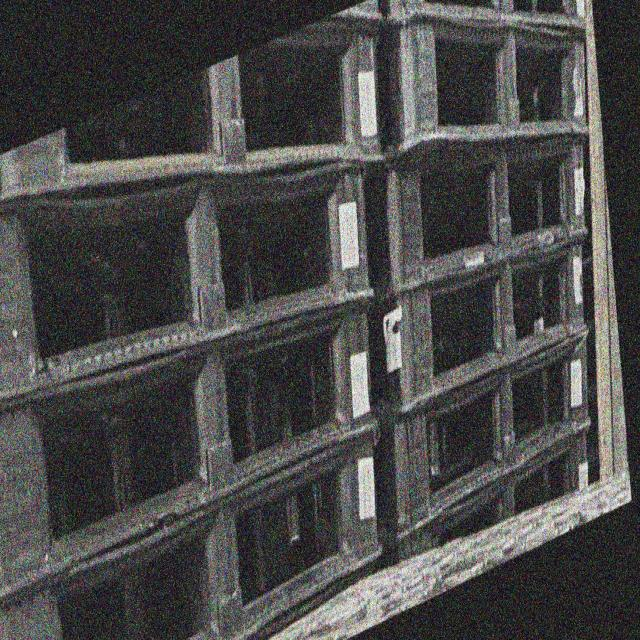igps: (0, 293, 382, 614), (0, 147, 378, 432), (0, 406, 386, 640), (0, 0, 390, 227), (384, 310, 600, 554), (373, 215, 592, 431), (376, 117, 594, 312), (383, 0, 592, 178), (392, 406, 594, 577)
